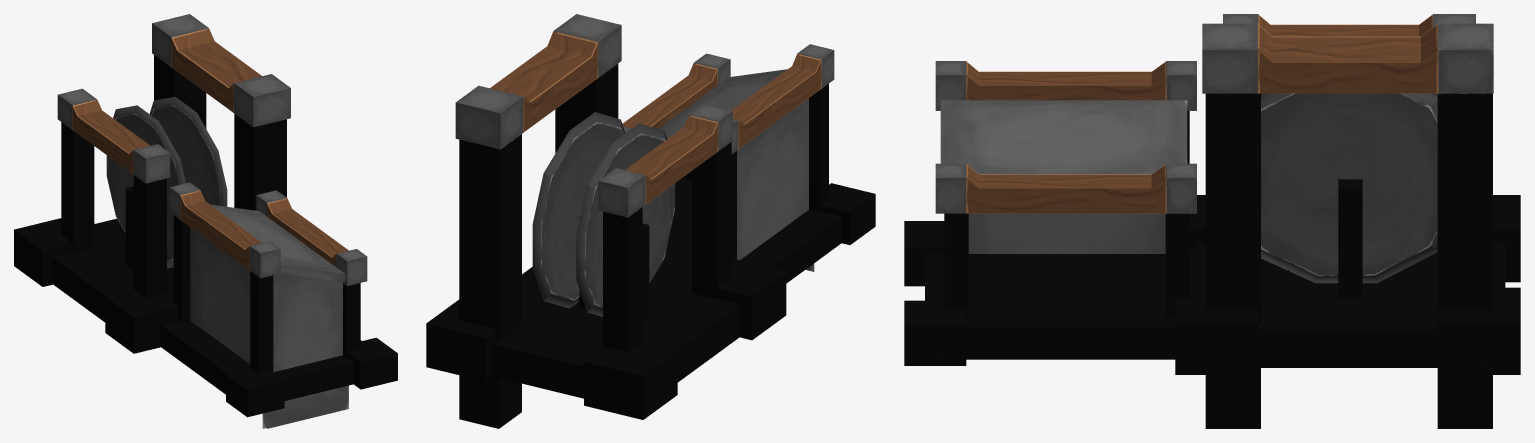
Rendered from Lumber Mill 3.FBX.
The picture shows the model from 3 angles, left to right: view 1: azimuth 30°, elevation 25°; view 2: azimuth 150°, elevation 25°; view 3: azimuth 270°, elevation 25°; orthographic projection. The views are drawn at different scales.
Visible parts, largest first — view 1: Box573; view 2: Box573; view 3: Box573.
Part boxes in pixels (<box>): Box573: <box>14,14,397,428</box>; Box573: <box>426,14,875,428</box>; Box573: <box>904,14,1520,428</box>.
Size of the model in its own units: 54.02 by 75.2 by 110.
